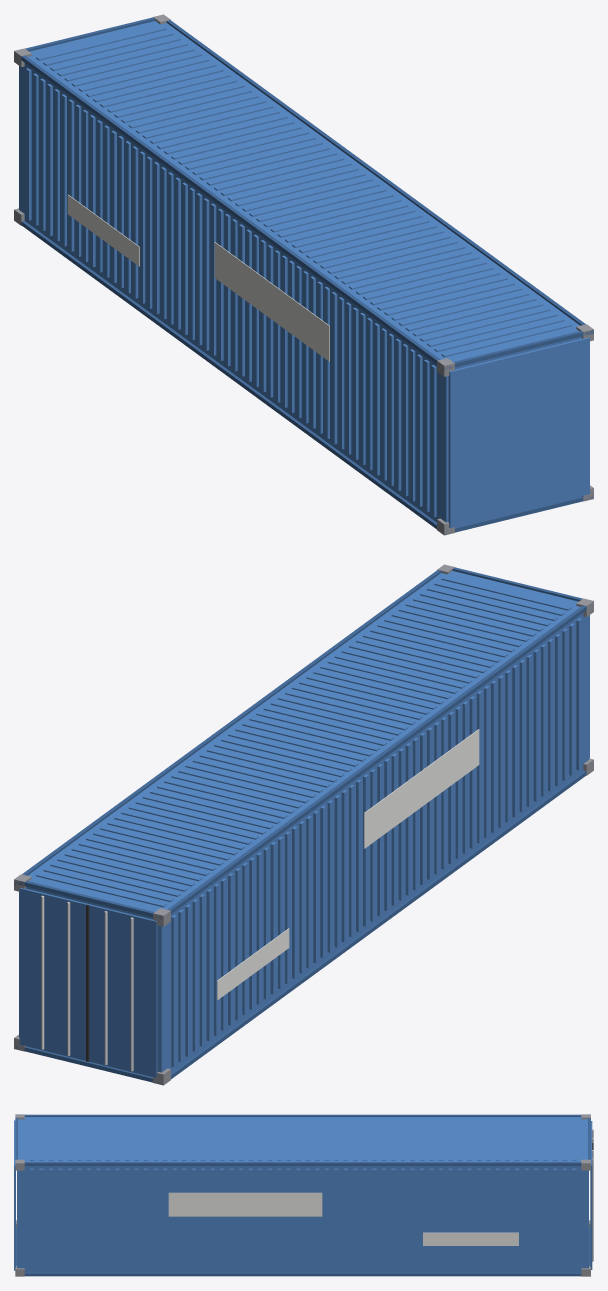
File: container_blue.glb
3 renders of one model, top to bottom at view 1: azimuth 30°, elevation 25°; view 2: azimuth 150°, elevation 25°; view 3: azimuth 270°, elevation 25°, orthographic. The views are drawn at different scales.
Visible parts, largest first — view 1: container_blue; view 2: container_blue; view 3: container_blue.
Boxes of the visible parts, <box> form: container_blue: <box>14,14,593,535</box>; container_blue: <box>14,564,593,1085</box>; container_blue: <box>14,1114,593,1276</box>.
Bounding box in the file's own units: 2.41 × 2.61 × 12.09.
